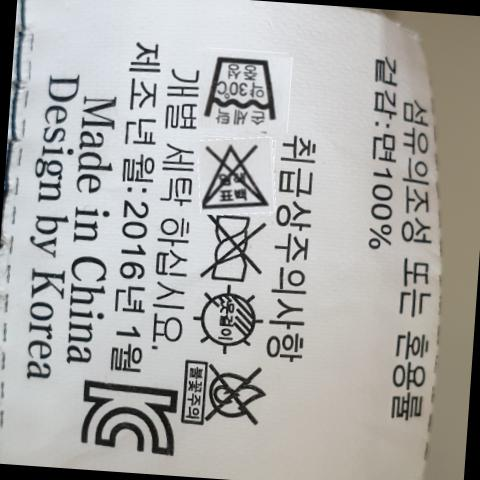DN_wring: (207, 213, 260, 280)
hand_wash: (204, 53, 282, 130)
line_dry_in_shade: (199, 287, 262, 353)
non_chlorine_bleach: (201, 144, 271, 213)
